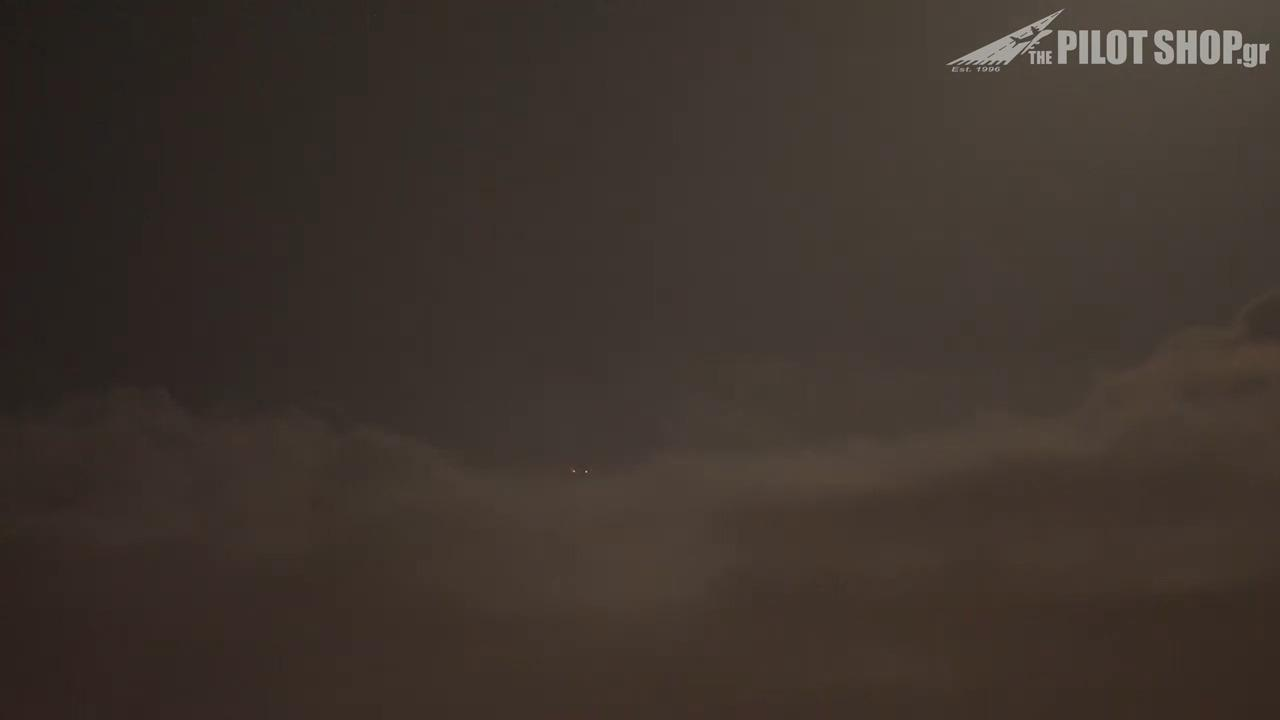Plane: (563, 459, 601, 477)
